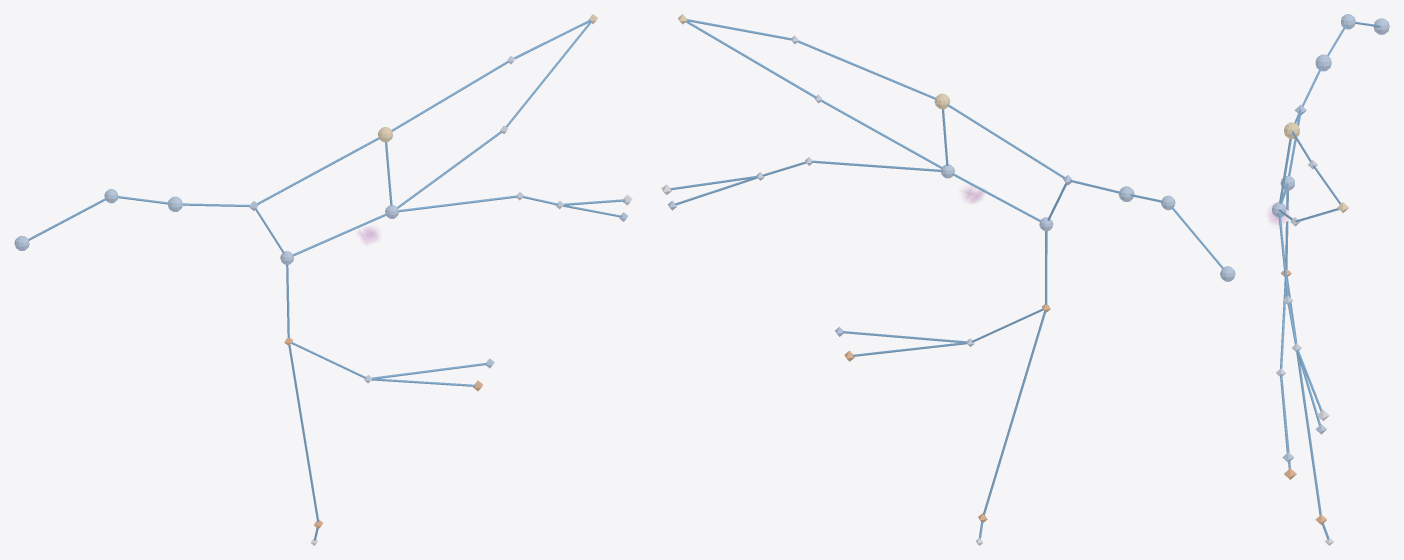
File: constellation-uma.glb
3 views of the same model, side by side, from view 1: azimuth 30°, elevation 25°; view 2: azimuth 150°, elevation 25°; view 3: azimuth 270°, elevation 25° (orthographic). The views are drawn at different scales.
Bounding box in the file's own units: 4.71 × 3.49 × 0.8001.
